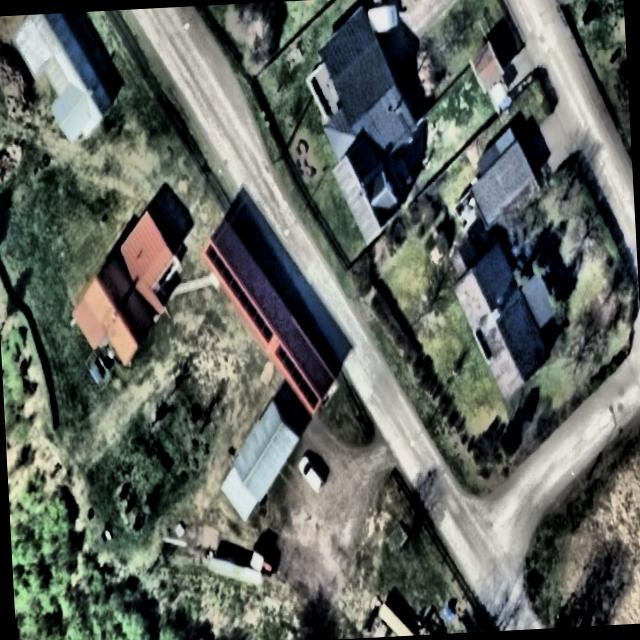roof_pv: (240, 282, 260, 332), (202, 238, 222, 280), (274, 338, 298, 371), (222, 260, 240, 302), (259, 310, 276, 348), (298, 388, 321, 414), (286, 370, 314, 390)
